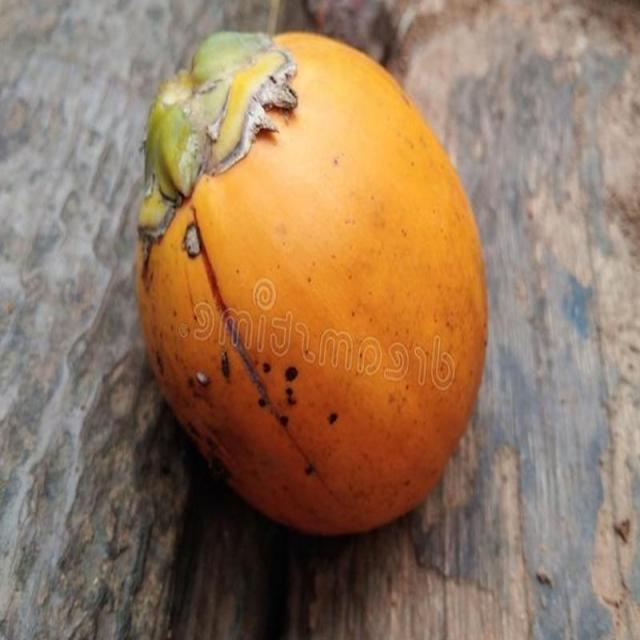good: (134, 31, 489, 540)
